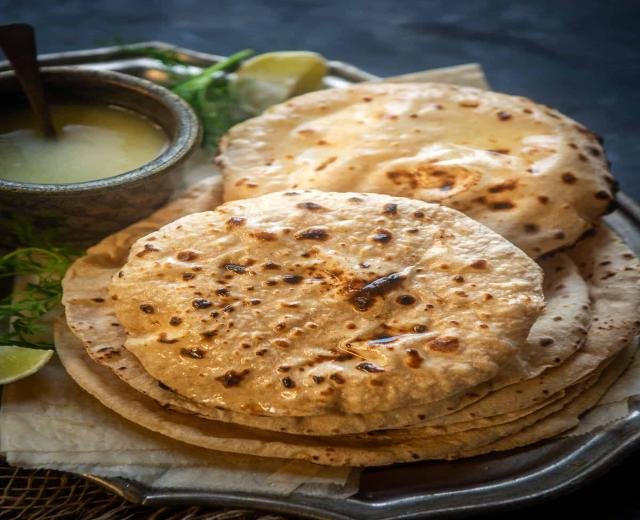chapati: (60, 80, 639, 466)
